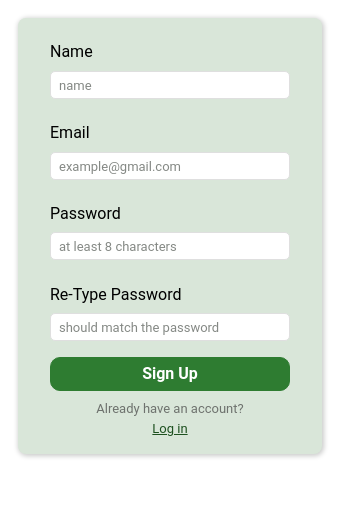
Scenario: Loading Sign Up Form › Retyped-Password Is Invalid
The width and height of the screenshot is (343, 529).
Type "hjbfgsdf" into the password field labelled "Password".
click(170, 246); type("hjbfgsdf")  # box [50, 232, 290, 260]
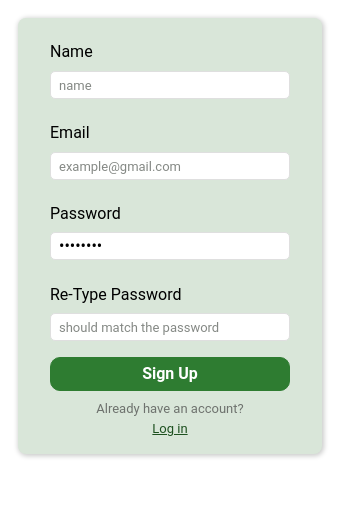
Type "hjbf" into the password field labelled "Re-Type Password".
click(170, 327); type("hjbf")  # box [50, 313, 290, 341]
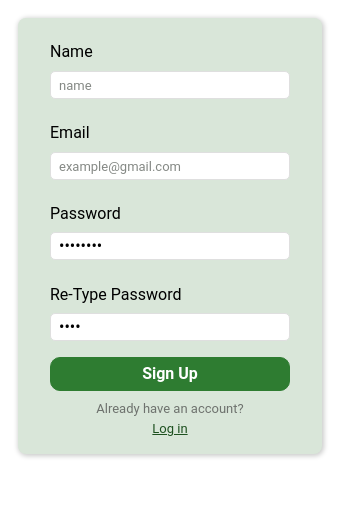
Click the button.
click(170, 374)  # box [50, 357, 290, 391]
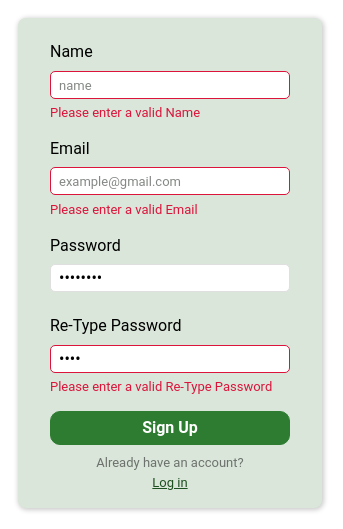
Check: the text "Please enter a valid Re-Type Password" is shown, box [50, 377, 290, 397]
